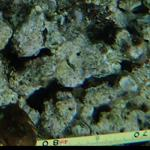dead: (10, 11, 141, 128)
